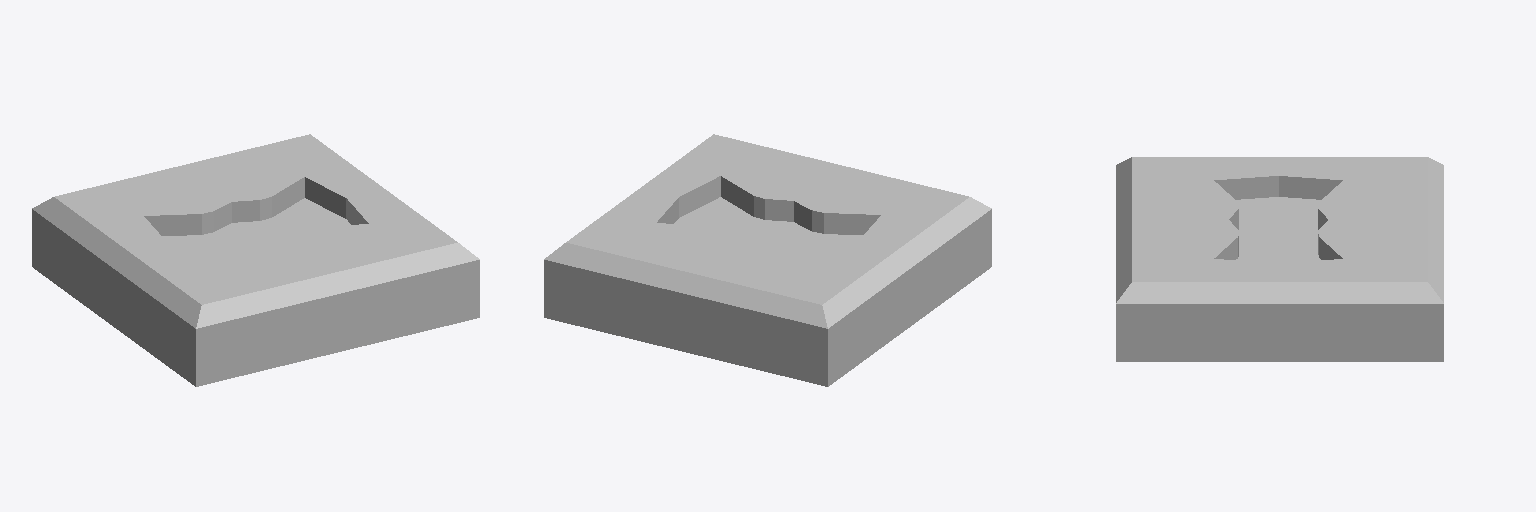
File: Axe Mold 1.obj
3 renders of one model, left to right at view 1: azimuth 30°, elevation 25°; view 2: azimuth 150°, elevation 25°; view 3: azimuth 270°, elevation 25°, orthographic.
Visible parts, largest first — view 1: Axe_Mold; view 2: Axe_Mold; view 3: Axe_Mold.
Part boxes in pixels (x1,y1,x2,y2): Axe_Mold: (32,134,479,386); Axe_Mold: (544,134,991,386); Axe_Mold: (1116,157,1443,361).
Size of the model in its own units: 5.76 by 1.41 by 5.76.